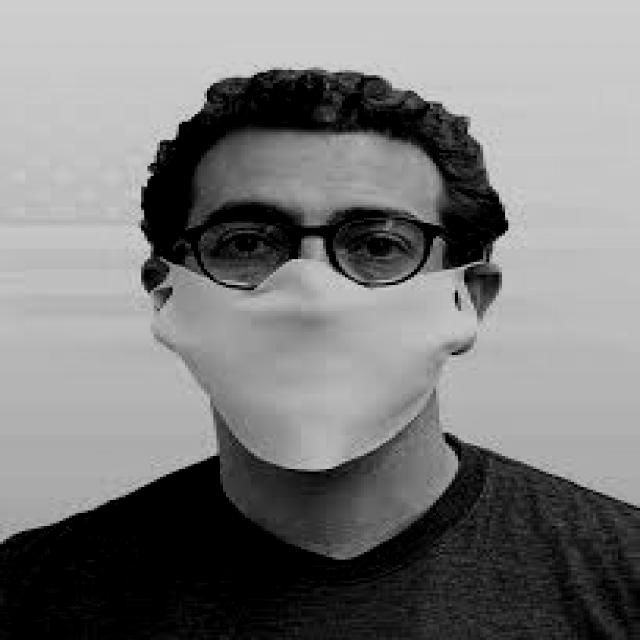fake: (152, 261, 479, 466)
real: (173, 128, 445, 478)
